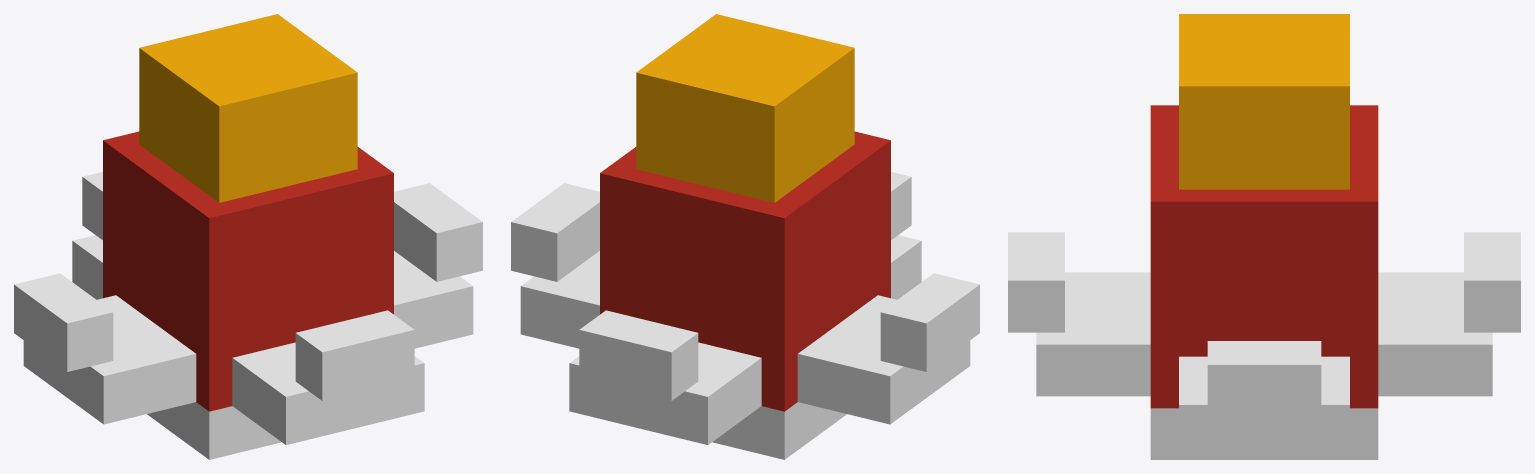
File: egg_long.obj
3 views of the same model, side by side, from view 1: azimuth 30°, elevation 25°; view 2: azimuth 150°, elevation 25°; view 3: azimuth 270°, elevation 25° (orthographic). The views are drawn at different scales.
Visible parts, largest first — view 1: egg_long; view 2: egg_long; view 3: egg_long.
Boxes of the visible parts, x1,y1,x2,y2 form: egg_long: (14, 14, 482, 459); egg_long: (511, 14, 979, 459); egg_long: (1008, 14, 1520, 459).
Size of the model in its own units: 11.63 by 9.04 by 11.62.
